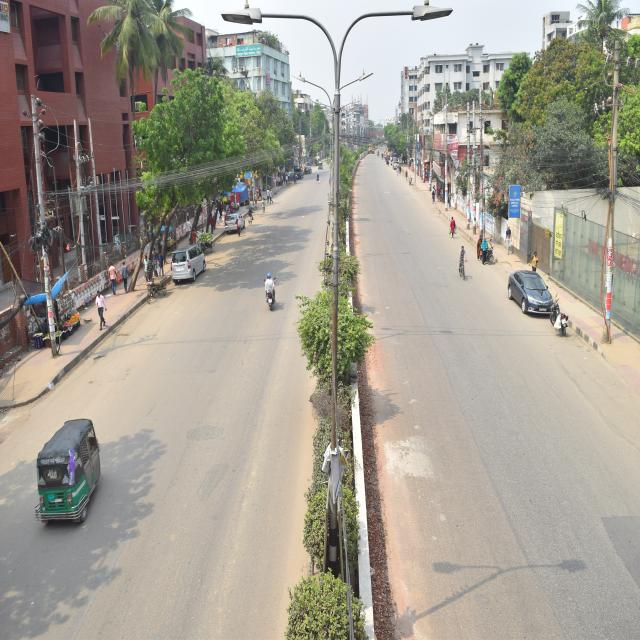car: (502, 257, 560, 319), (215, 208, 248, 241)
microbus: (172, 245, 211, 283)
motorbike: (256, 267, 288, 318), (549, 299, 573, 339), (474, 232, 500, 264)
